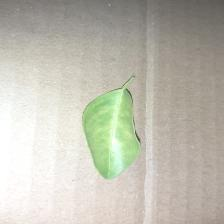greening: (75, 68, 153, 184)
